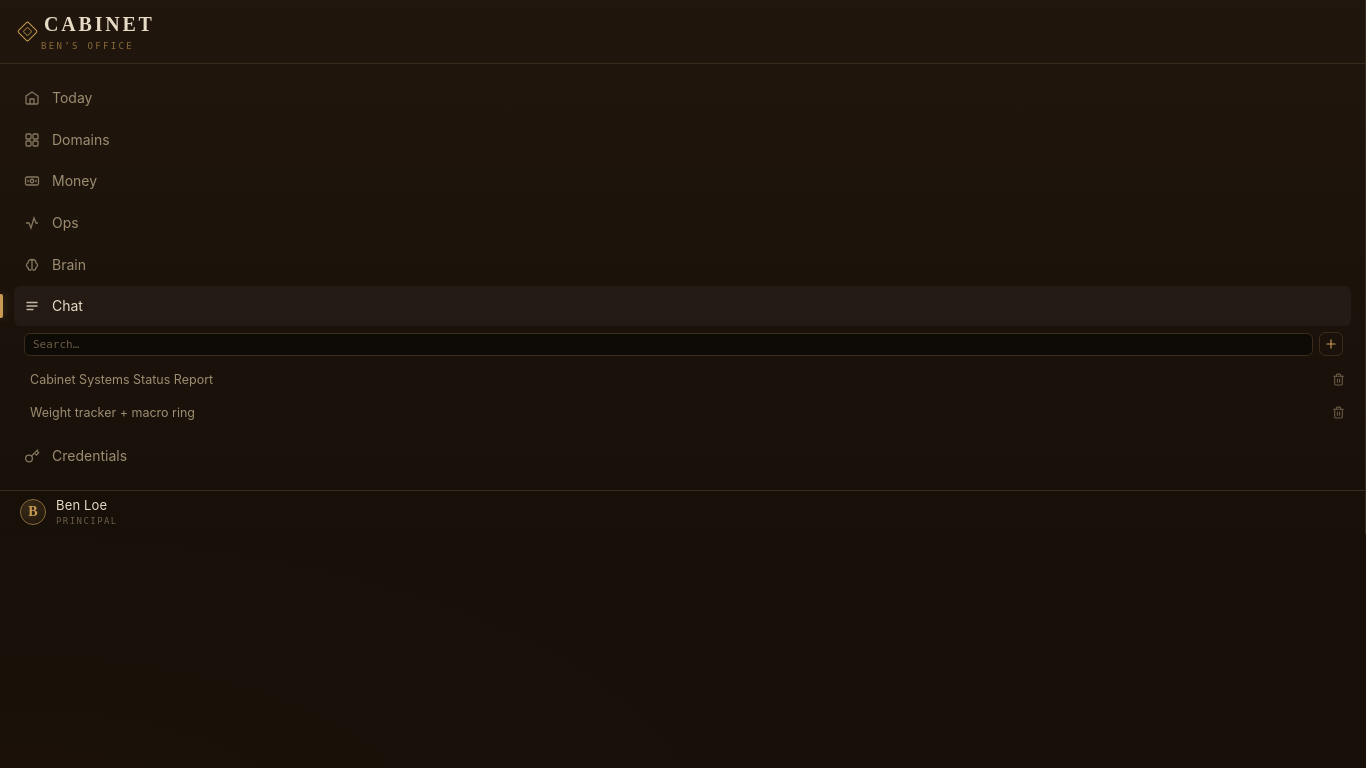
rail Chat accordion › Esc and Cancel both dismiss the dialog without deleting
Click the button named "Delete “Cabinet Systems Status Report”": (1338, 380) left=1327, top=369, right=1349, bottom=391
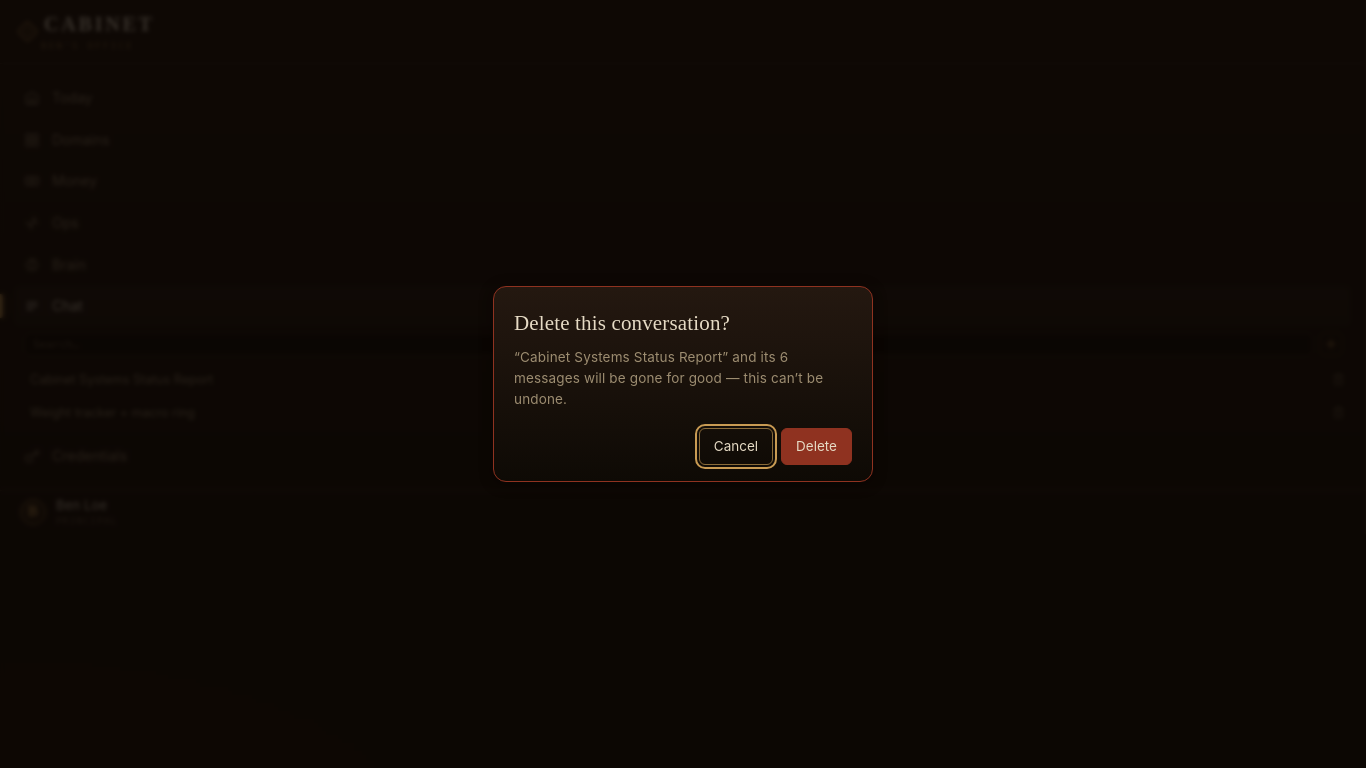
Press Escape
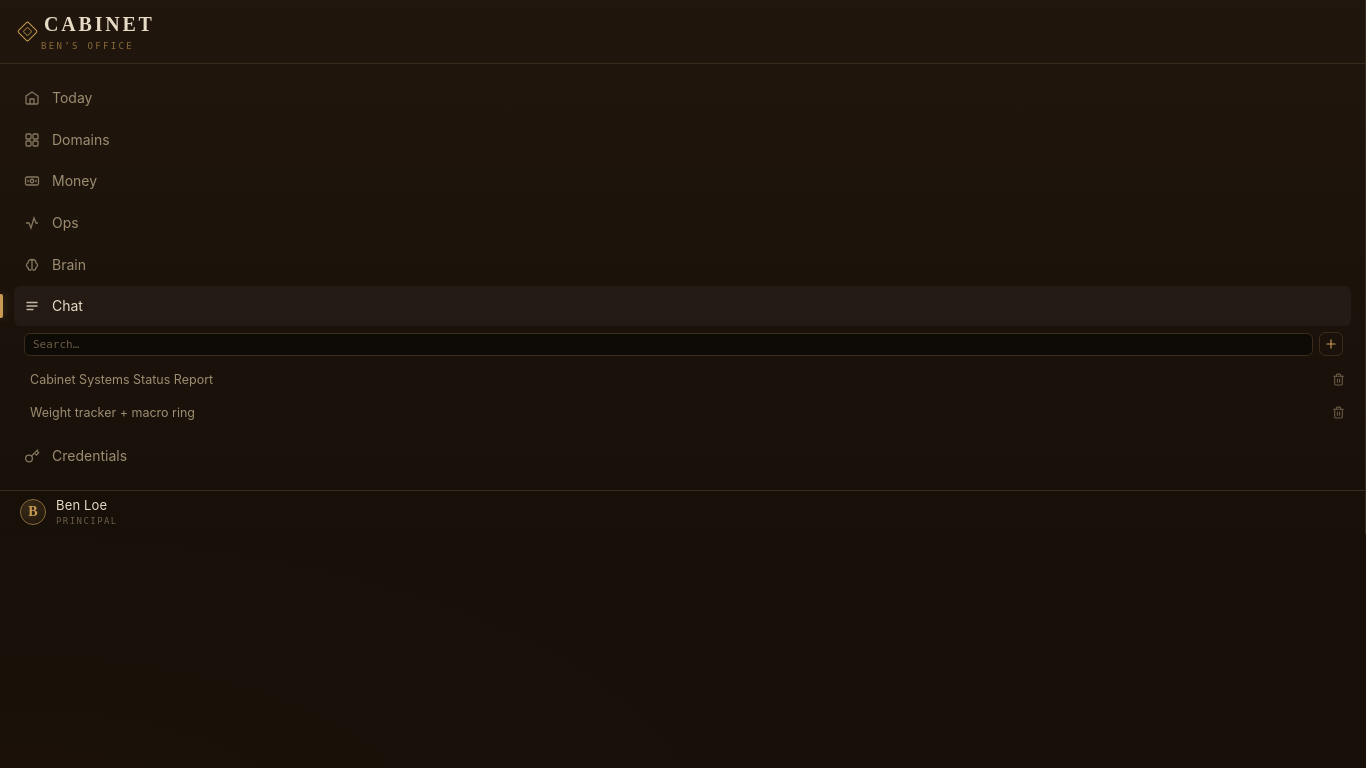
Result: the dialog is gone
Click the button named "Delete “Cabinet Systems Status Report”": (1338, 380) left=1327, top=369, right=1349, bottom=391
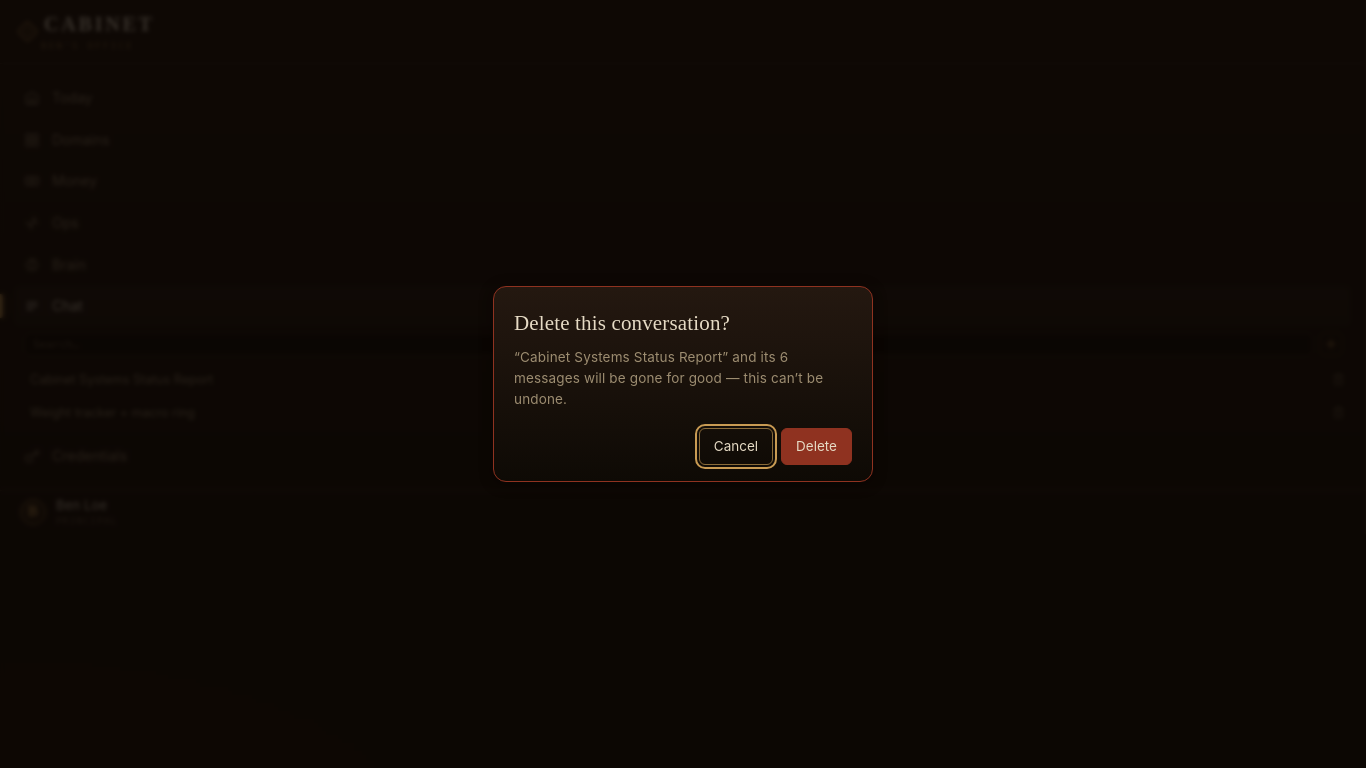
Click the button "Cancel": (736, 447) left=699, top=428, right=773, bottom=465
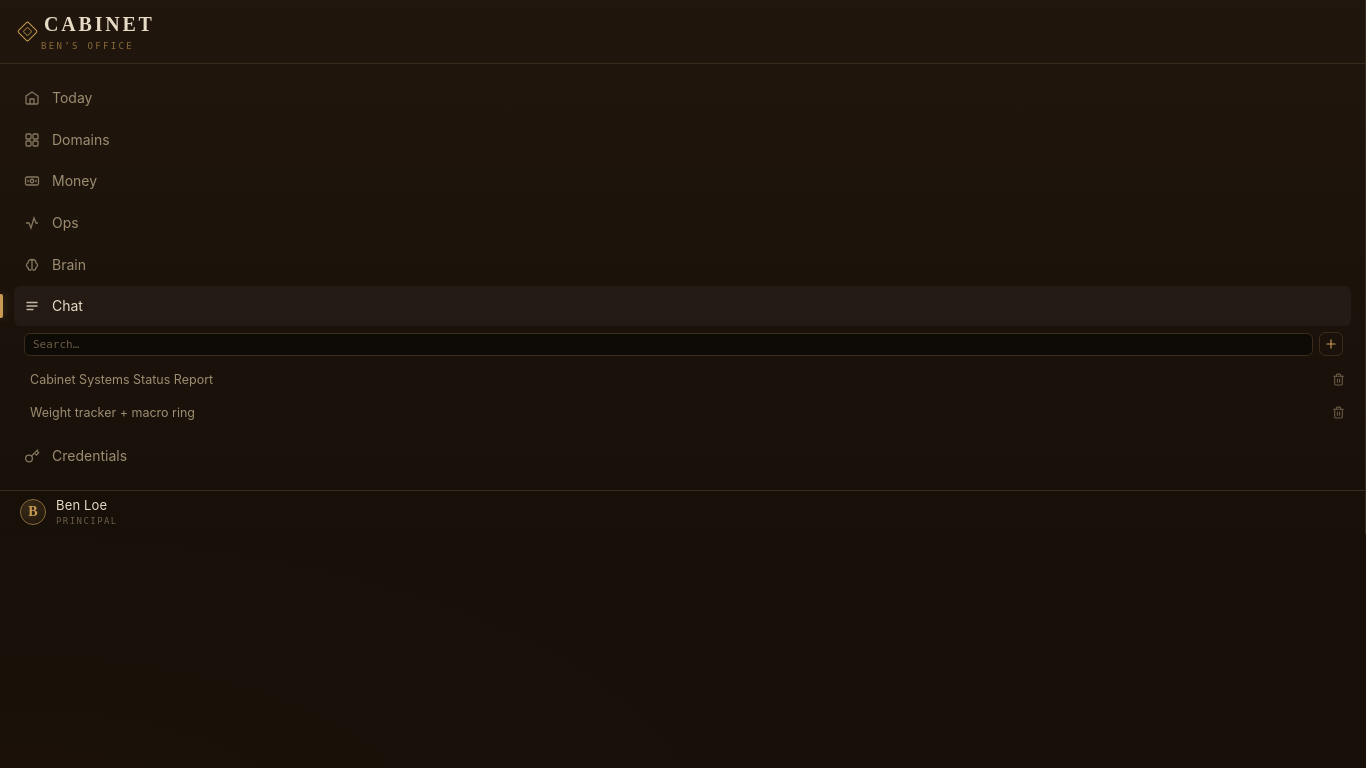
Result: the dialog is gone
